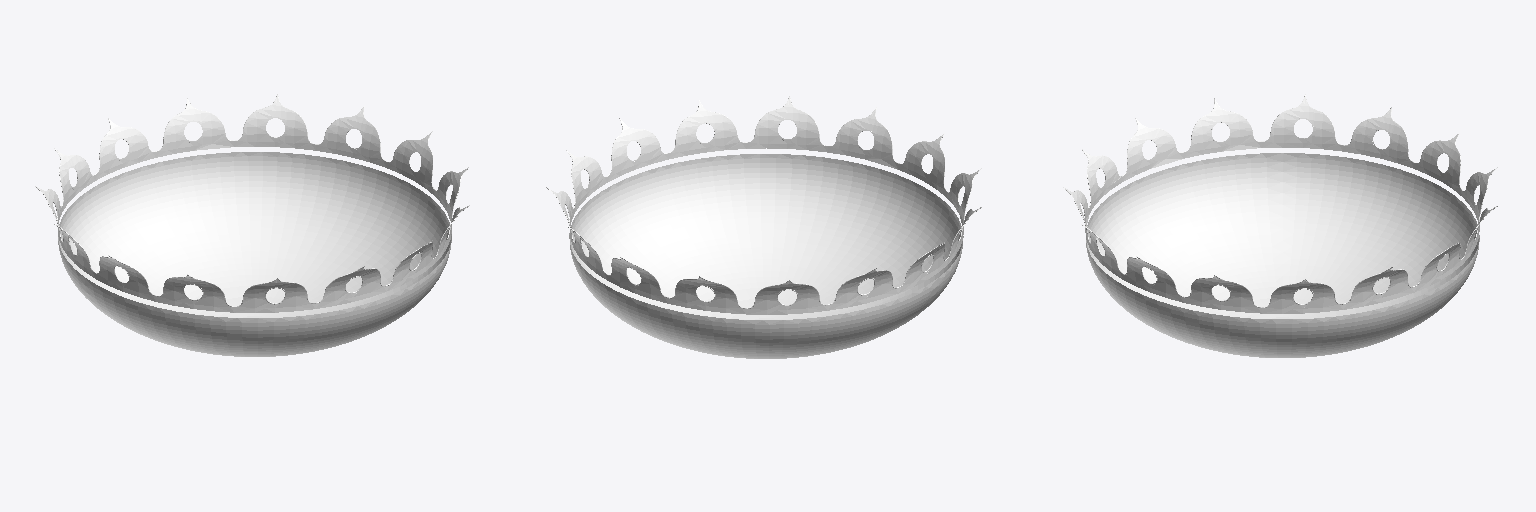
The model's file is Bronze.obj.
3 views of the same model, side by side, from view 1: azimuth 30°, elevation 25°; view 2: azimuth 150°, elevation 25°; view 3: azimuth 270°, elevation 25° (orthographic).
Visible parts, largest first — view 1: Bronzah_object_27.001; view 2: Bronzah_object_27.001; view 3: Bronzah_object_27.001.
Part boxes in pixels (x1,y1,x2,y2): Bronzah_object_27.001: (35,94,469,356); Bronzah_object_27.001: (546,96,981,358); Bronzah_object_27.001: (1063,94,1497,357).
Size of the model in its own units: 11.12 by 3.89 by 11.06.